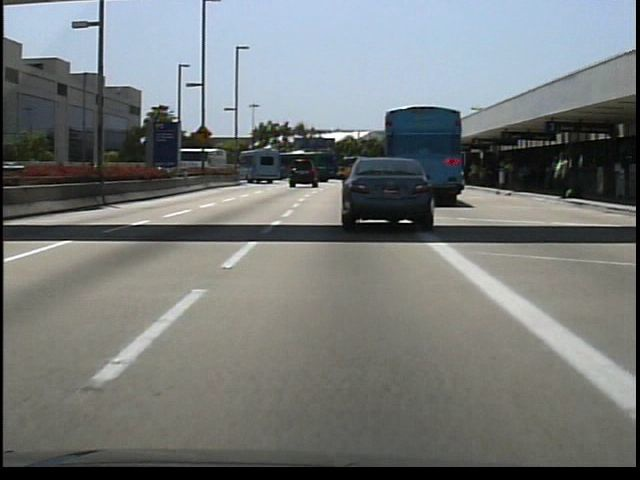person: (550, 152, 572, 201)
